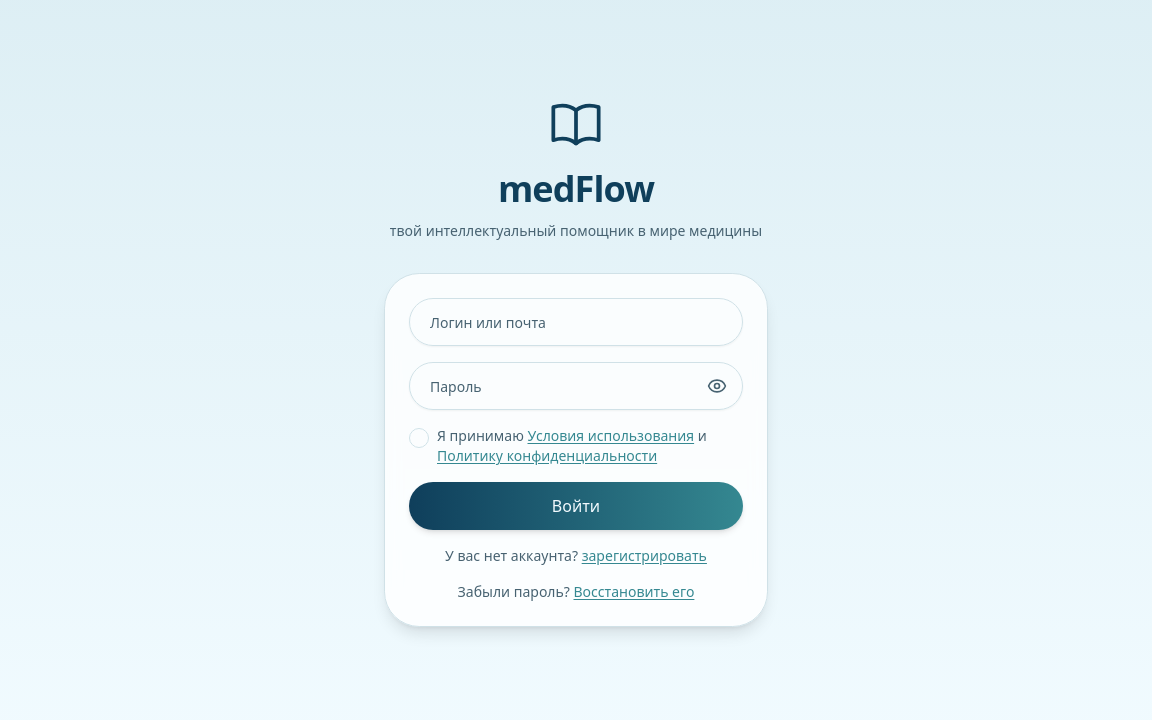
Test: ForgotPasswordPage › is reachable from the login page
Click the link "Восстановить его".
click(634, 592)  # box [574,582,694,601]
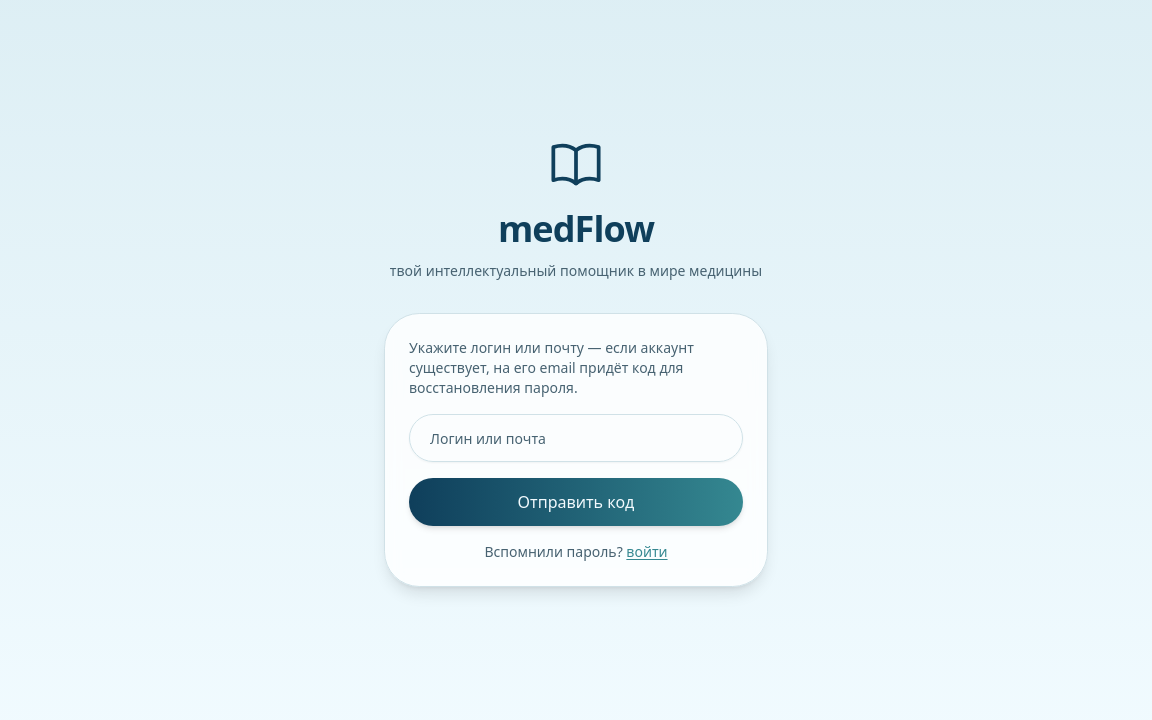
Now the text "если аккаунт существует" is shown, box [409,338,694,397]
